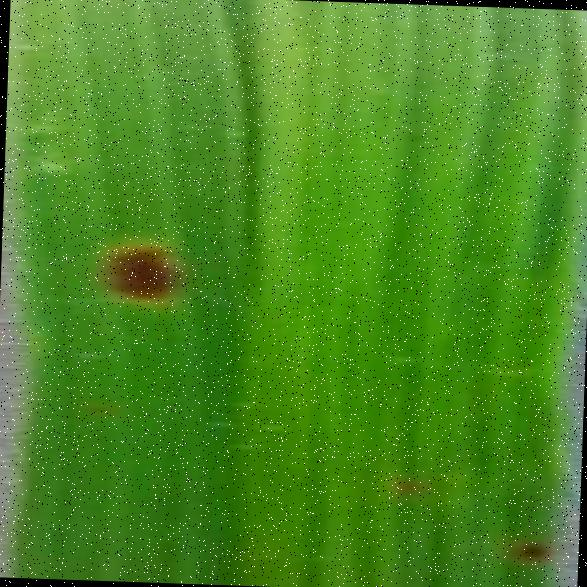Brown_Spot: (75, 216, 204, 324), (507, 522, 558, 573), (382, 467, 433, 506)
